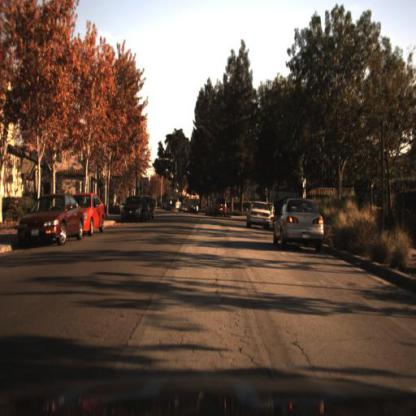car: (16, 189, 86, 249), (274, 198, 332, 251), (74, 190, 109, 239), (82, 189, 112, 241), (119, 193, 146, 227), (120, 195, 149, 225), (246, 200, 275, 227), (144, 194, 160, 223)
